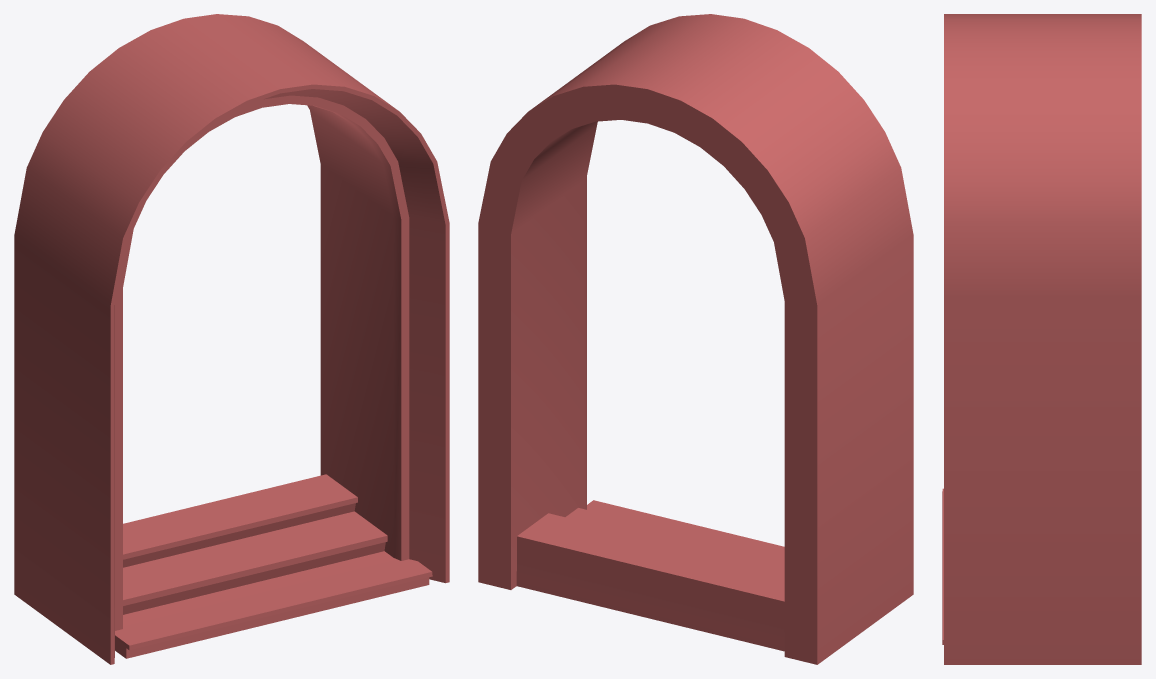
File: FairyTale232.gltf
3 renders of one model, left to right at view 1: azimuth 30°, elevation 25°; view 2: azimuth 150°, elevation 25°; view 3: azimuth 270°, elevation 25°, orthographic. The views are drawn at different scales.
Visible parts, largest first — view 1: 网格.256_1; view 2: 网格.256_1; view 3: 网格.256_1.
Boxes of the visible parts, left/top/right/bottom form: 网格.256_1: left=14, top=14, right=449, bottom=664; 网格.256_1: left=478, top=14, right=913, bottom=664; 网格.256_1: left=942, top=14, right=1141, bottom=664.
Bounding box in the file's own units: 1.55 × 2.34 × 0.7703.
